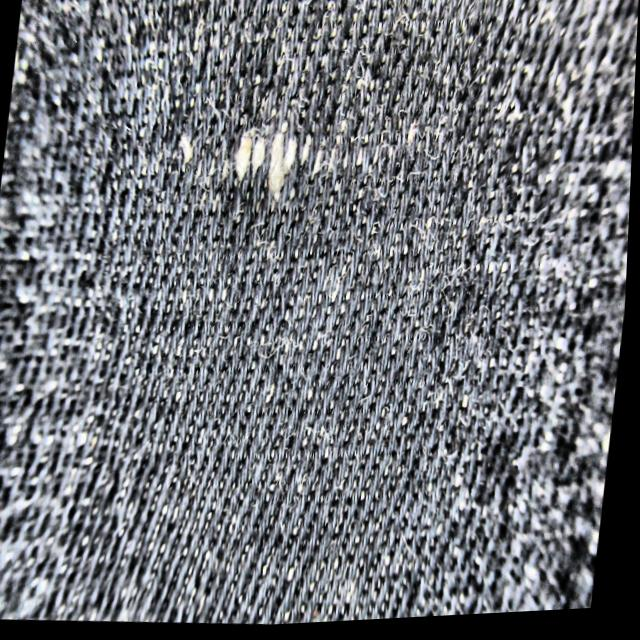Hole: (217, 106, 342, 220), (158, 119, 204, 200)
